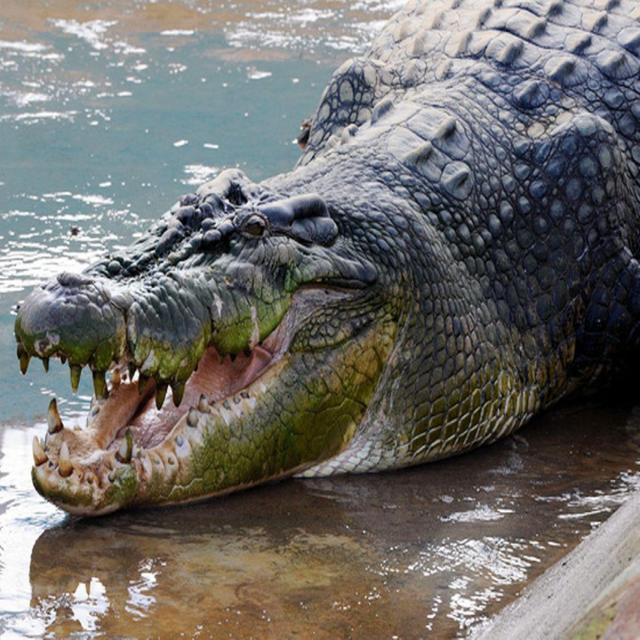crocodile: (11, 0, 639, 529)
